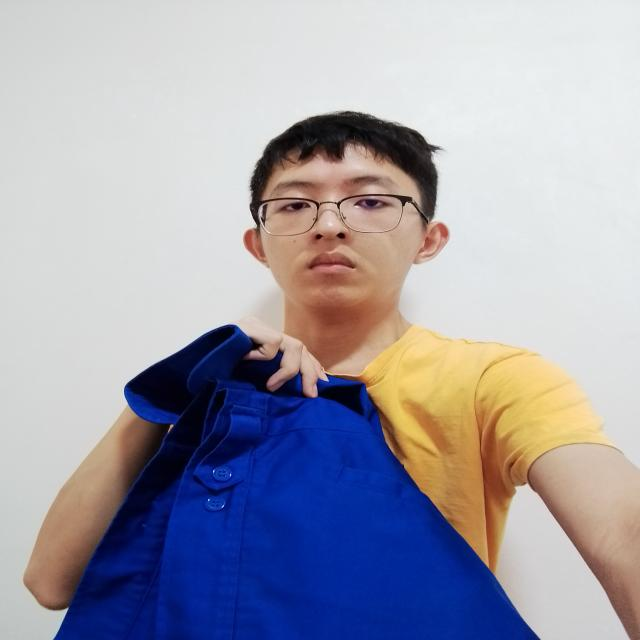person_without_labcoat: (24, 113, 640, 640)
